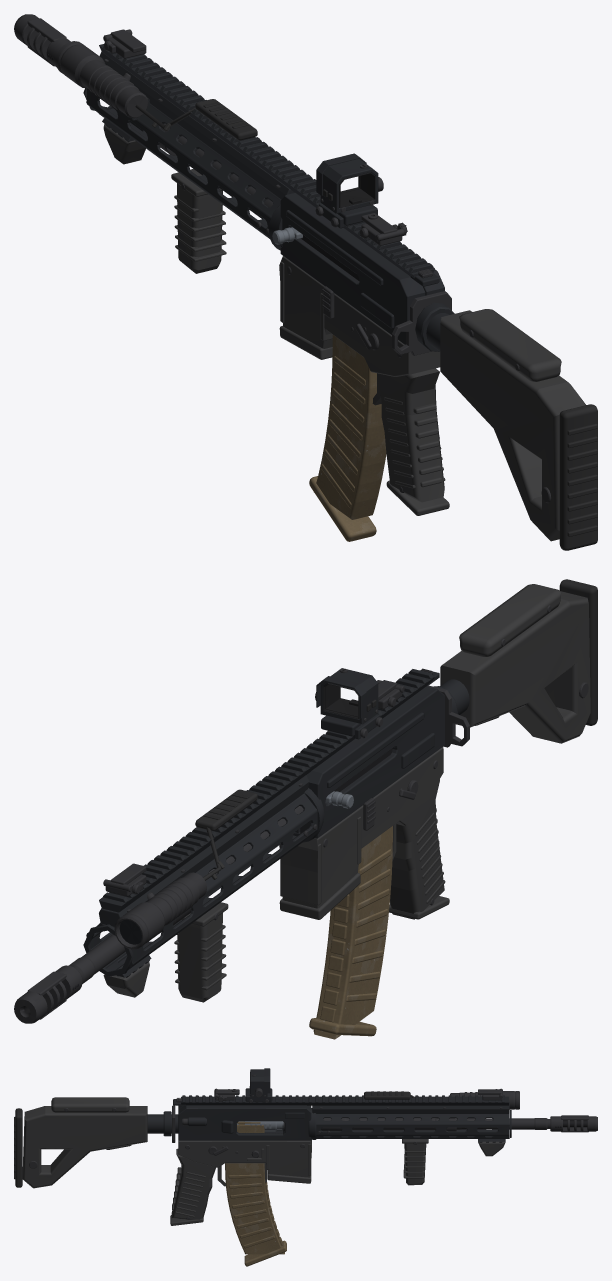
The model's file is pac9.glb.
The picture shows the model from 3 angles, top to bottom: view 1: azimuth 30°, elevation 25°; view 2: azimuth 150°, elevation 25°; view 3: azimuth 270°, elevation 25°; orthographic projection. The views are drawn at different scales.
Parts seen in each view (by area): view 1: pac9; view 2: pac9; view 3: pac9.
Boxes of the visible parts, bbox=[...] form: pac9: bbox=[14, 14, 597, 550]; pac9: bbox=[14, 579, 597, 1039]; pac9: bbox=[14, 1068, 597, 1266].
Bounding box in the file's own units: 0.0691 × 0.3169 × 0.8775.
7 materials, 3 textured.
